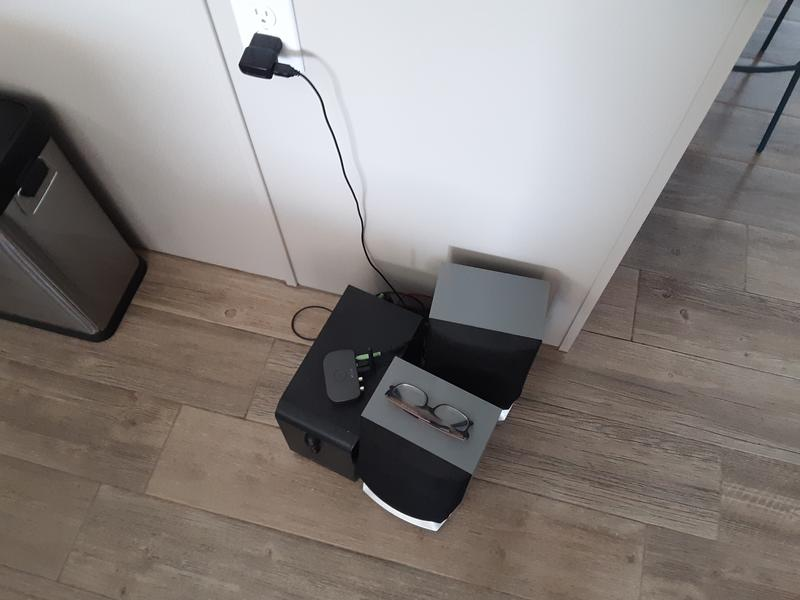glasses: (381, 380, 476, 442)
